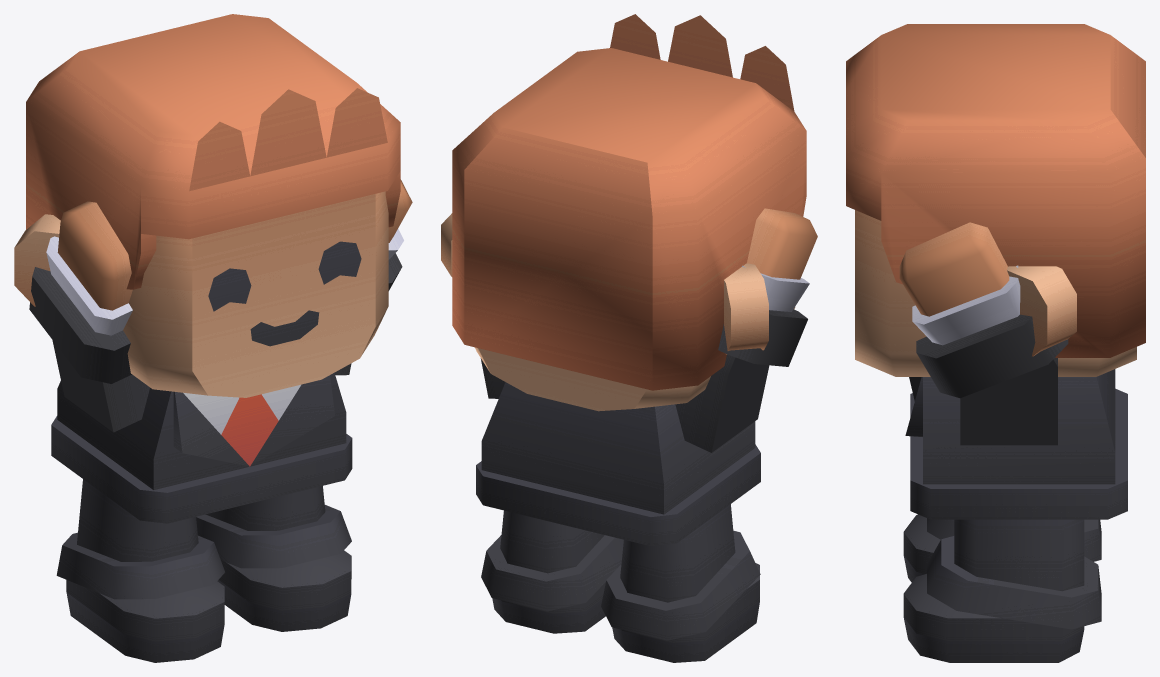
Rendered from character-male-d-idle.glb.
3 renders of one model, left to right at view 1: azimuth 30°, elevation 25°; view 2: azimuth 150°, elevation 25°; view 3: azimuth 270°, elevation 25°, orthographic. The views are drawn at different scales.
Parts seen in each view (by area): view 1: character-male-d-idle; view 2: character-male-d-idle; view 3: character-male-d-idle.
Part boxes in pixels (x1,y1,x2,y2): character-male-d-idle: (14,14,412,662); character-male-d-idle: (441,14,817,662); character-male-d-idle: (846,24,1145,662).
Size of the model in its own units: 0.4535 by 0.7218 by 0.34.
1 material, 1 textured.
